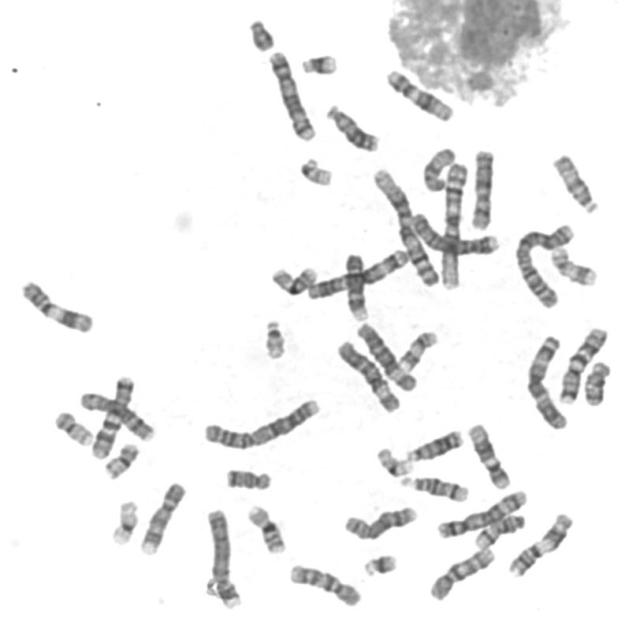A1: (368, 163, 442, 288), (436, 158, 471, 291)
A2: (200, 393, 323, 451), (512, 219, 578, 310)
A3: (304, 244, 412, 301), (522, 330, 572, 430)
B4: (406, 209, 500, 258), (202, 504, 245, 610)
B5: (265, 45, 318, 143), (434, 485, 530, 539)
C10: (426, 542, 498, 602), (285, 560, 364, 610)
C11: (505, 508, 576, 578), (16, 276, 97, 334)
C12: (382, 64, 457, 124), (464, 420, 513, 491)
C6: (334, 336, 404, 415), (353, 318, 419, 393)
C7: (555, 321, 611, 406), (88, 372, 137, 461)
C8: (75, 387, 157, 443), (340, 501, 420, 543)
C9: (136, 478, 188, 556), (340, 249, 370, 323)
D13: (322, 100, 382, 153), (403, 425, 465, 464)
D14: (396, 472, 471, 503), (471, 510, 528, 550)
D15: (550, 150, 602, 216), (419, 143, 458, 192)
E16: (244, 500, 289, 556), (267, 262, 320, 297)
E17: (547, 243, 601, 289), (396, 327, 440, 373)
E18: (580, 357, 613, 407), (222, 464, 274, 492)
F19: (107, 496, 141, 548), (373, 443, 415, 479)
F20: (50, 407, 96, 447), (100, 438, 141, 481)
G21: (297, 49, 341, 77), (360, 550, 400, 578)
G22: (296, 153, 335, 188), (260, 314, 289, 360)
X: (467, 145, 497, 231)
Y: (245, 14, 278, 53)
